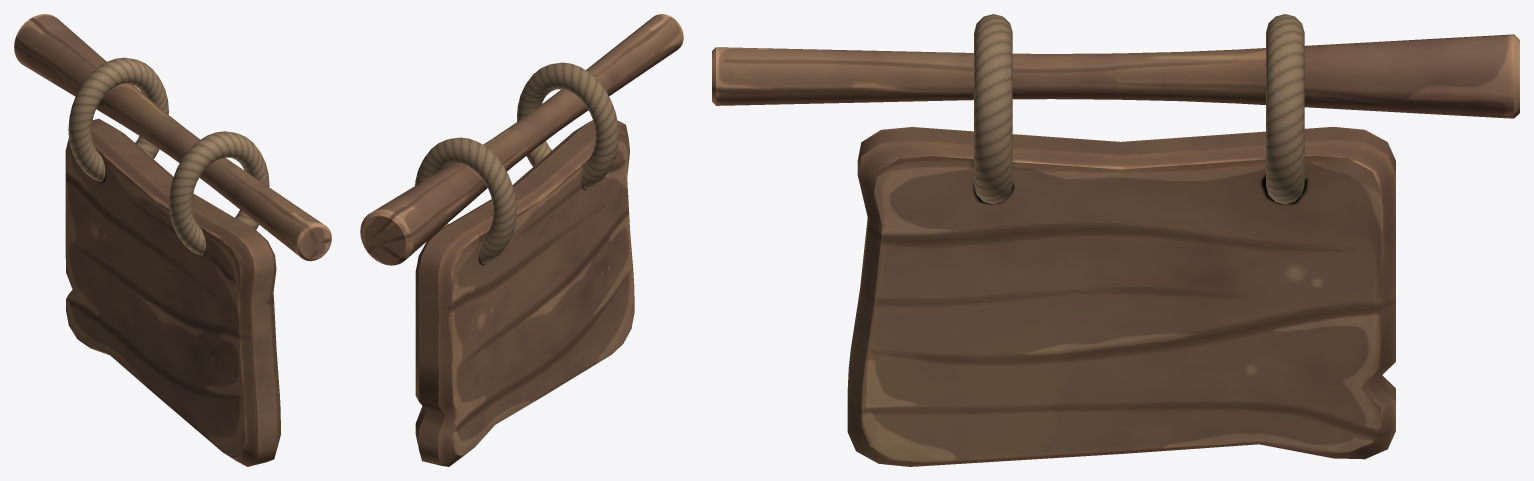
The model's file is SM_Sign_01.fbx.
3 renders of one model, left to right at view 1: azimuth 30°, elevation 25°; view 2: azimuth 150°, elevation 25°; view 3: azimuth 270°, elevation 25°, orthographic. The views are drawn at different scales.
Parts seen in each view (by area): view 1: SM_Sign_01_LOD0; view 2: SM_Sign_01_LOD0; view 3: SM_Sign_01_LOD0.
Boxes of the visible parts, x1,y1,x2,y2 form: SM_Sign_01_LOD0: (14, 14, 331, 466); SM_Sign_01_LOD0: (360, 14, 683, 466); SM_Sign_01_LOD0: (712, 14, 1519, 466).
Size of the model in its own units: 36.49 by 183 by 110.
Materials: 1 (1 with a texture image).
